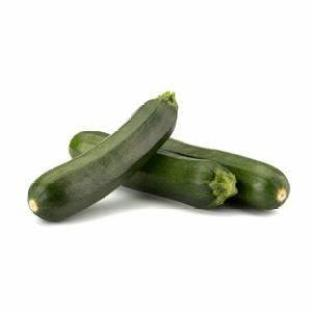Zucchini: (29, 93, 177, 221), (160, 139, 290, 210), (123, 150, 237, 209)
